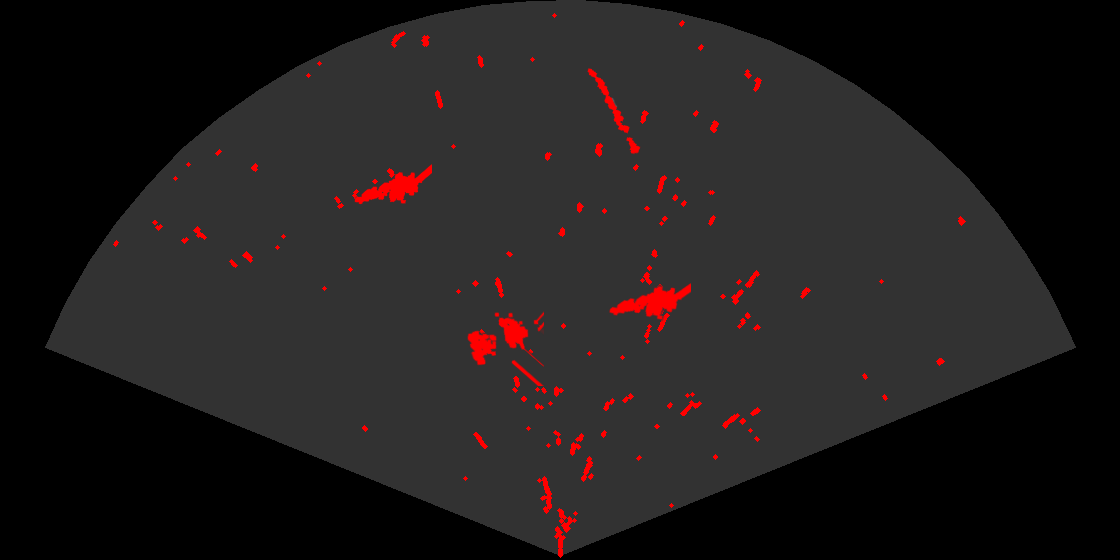cage: (466, 310, 544, 386)
chain: (586, 67, 642, 156)
frogman: (353, 163, 432, 206), (608, 282, 691, 322)
